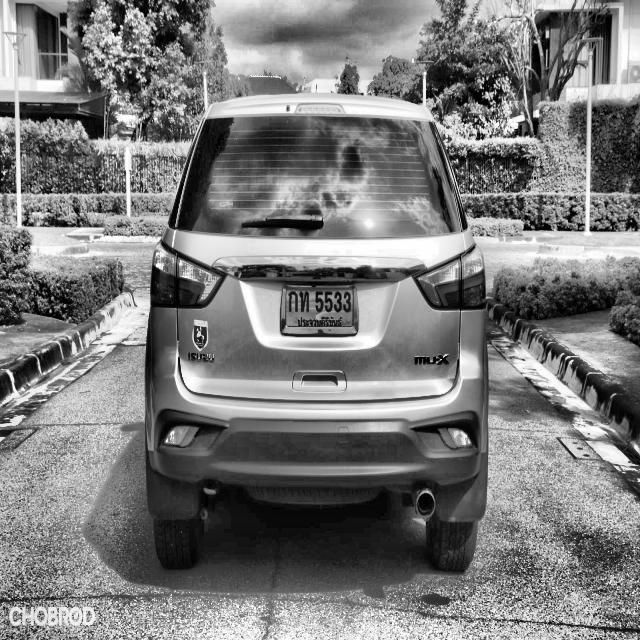license-plate: (280, 281, 359, 338)
